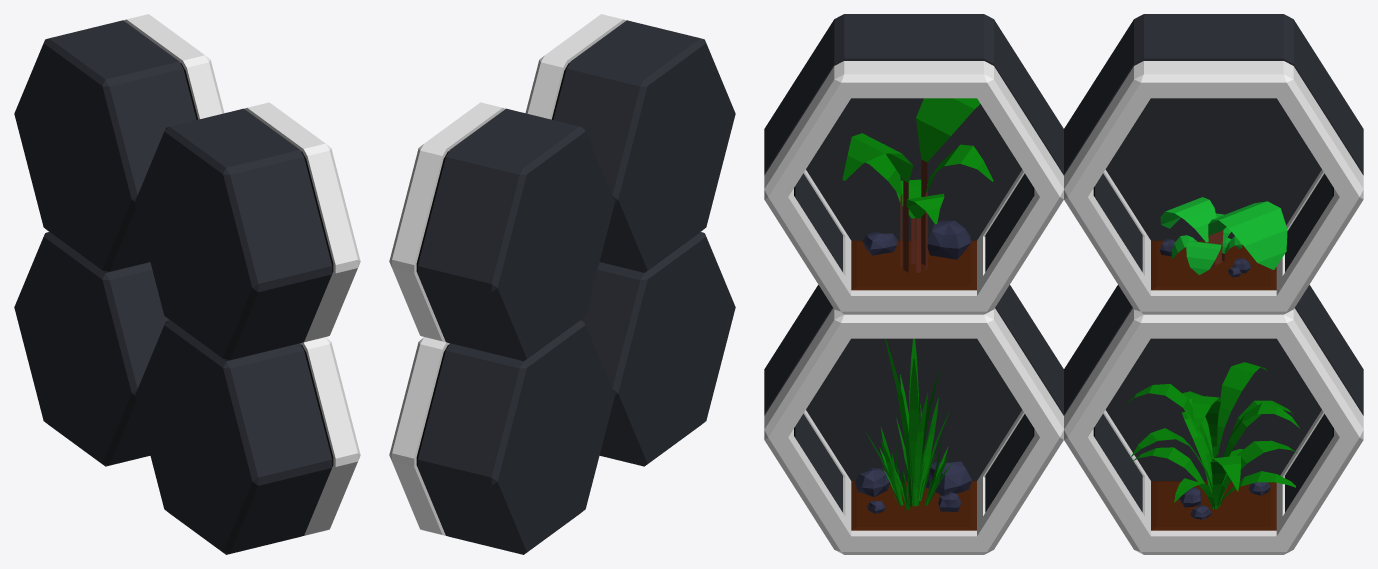
Rendered from SM_Hexagonal_Wall_Planter_Set.fbx.
3 renders of one model, left to right at view 1: azimuth 30°, elevation 25°; view 2: azimuth 150°, elevation 25°; view 3: azimuth 270°, elevation 25°, orthographic. The views are drawn at different scales.
Visible parts, largest first — view 1: SM_Hexagonal_Wall_Planter_Set; view 2: SM_Hexagonal_Wall_Planter_Set; view 3: SM_Hexagonal_Wall_Planter_Set.
Boxes of the visible parts, x1,y1,x2,y2 form: SM_Hexagonal_Wall_Planter_Set: (14, 14, 360, 554); SM_Hexagonal_Wall_Planter_Set: (389, 14, 735, 554); SM_Hexagonal_Wall_Planter_Set: (764, 14, 1363, 554).
Bounding box in the file's own units: 15.8 × 46.22 × 52.22.
